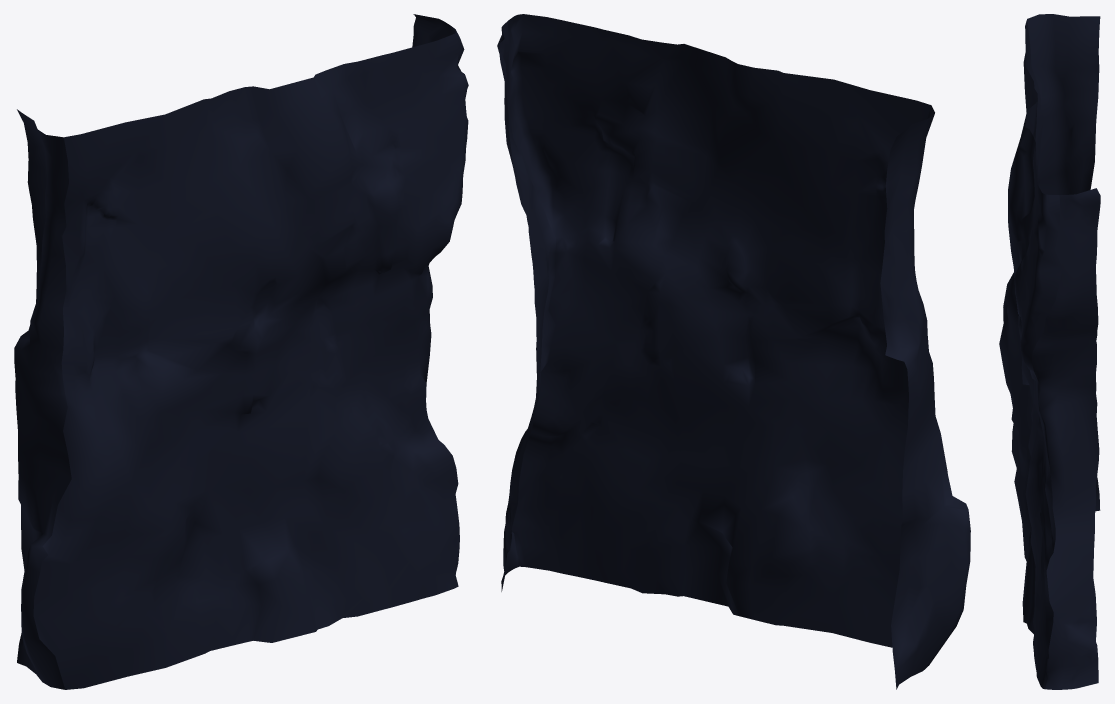
Rendered from SM_Climbing_Cliff.FBX.
3 renders of one model, left to right at view 1: azimuth 30°, elevation 25°; view 2: azimuth 150°, elevation 25°; view 3: azimuth 270°, elevation 25°, orthographic. The views are drawn at different scales.
Visible parts, largest first — view 1: polySurface005; view 2: polySurface005; view 3: polySurface005.
Boxes of the visible parts, <box> form: polySurface005: <box>14,14,468,689</box>; polySurface005: <box>497,14,970,689</box>; polySurface005: <box>999,14,1100,689</box>.
Size of the model in its own units: 351 by 76.31 by 410.
